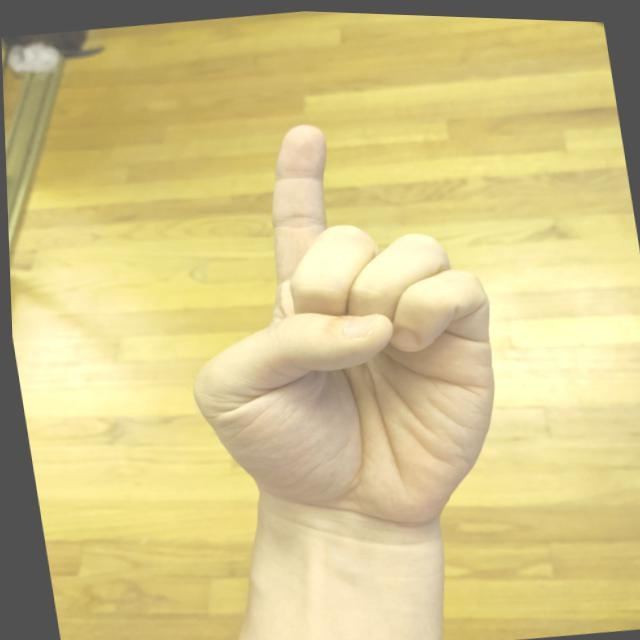D: (143, 93, 528, 560)
